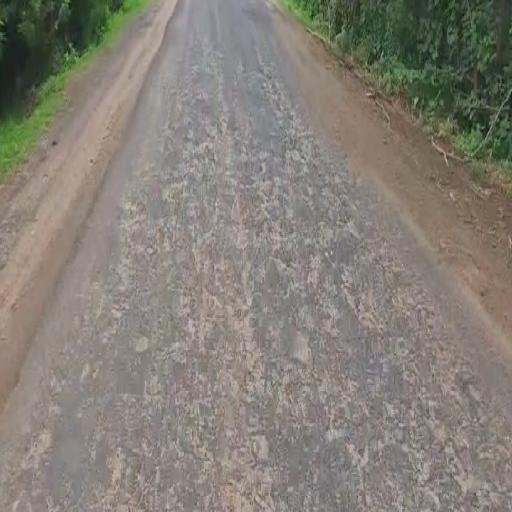ravelling: (133, 125, 424, 467)
